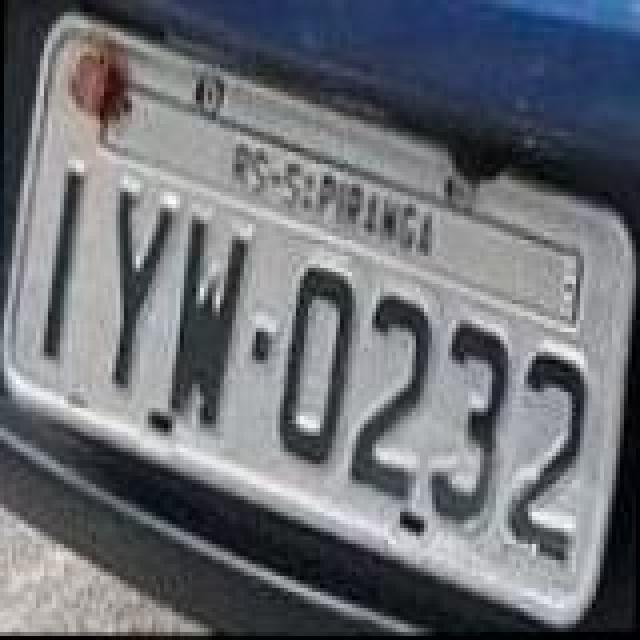1: (40, 164, 88, 364)
2: (348, 296, 432, 508), (506, 356, 586, 568)
3: (430, 316, 510, 524)
O: (278, 260, 362, 468)
W: (166, 216, 250, 432)
Y: (110, 186, 178, 386)
